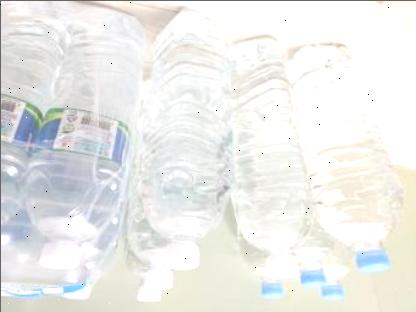Plastic Bottle: (134, 3, 240, 273), (285, 41, 403, 271)
